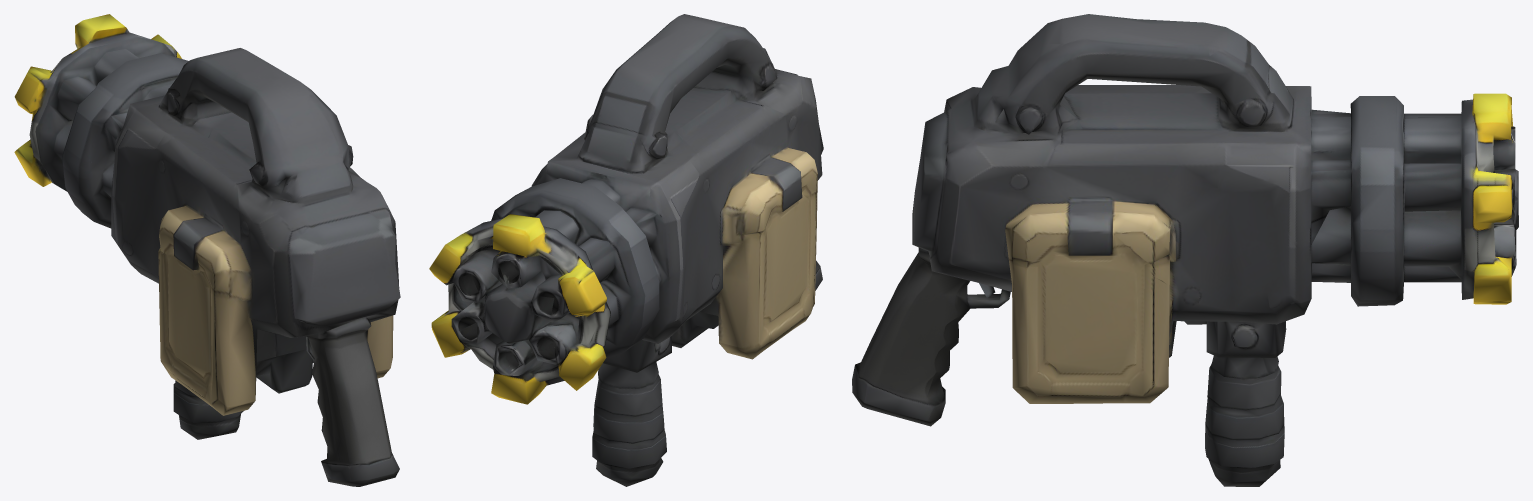
The model's file is shredder_tripo_raw.glb.
3 renders of one model, left to right at view 1: azimuth 30°, elevation 25°; view 2: azimuth 150°, elevation 25°; view 3: azimuth 270°, elevation 25°, orthographic. The views are drawn at different scales.
Parts seen in each view (by area): view 1: tripo_node_a30889a3-5ca8-4869-968e-d1f84bfc9665; view 2: tripo_node_a30889a3-5ca8-4869-968e-d1f84bfc9665; view 3: tripo_node_a30889a3-5ca8-4869-968e-d1f84bfc9665.
Boxes of the visible parts, bbox=[...] form: tripo_node_a30889a3-5ca8-4869-968e-d1f84bfc9665: bbox=[14, 14, 400, 486]; tripo_node_a30889a3-5ca8-4869-968e-d1f84bfc9665: bbox=[429, 14, 823, 486]; tripo_node_a30889a3-5ca8-4869-968e-d1f84bfc9665: bbox=[852, 14, 1518, 486].
Size of the model in its own units: 0.3714 by 0.7464 by 1.
1 material, 1 textured.
